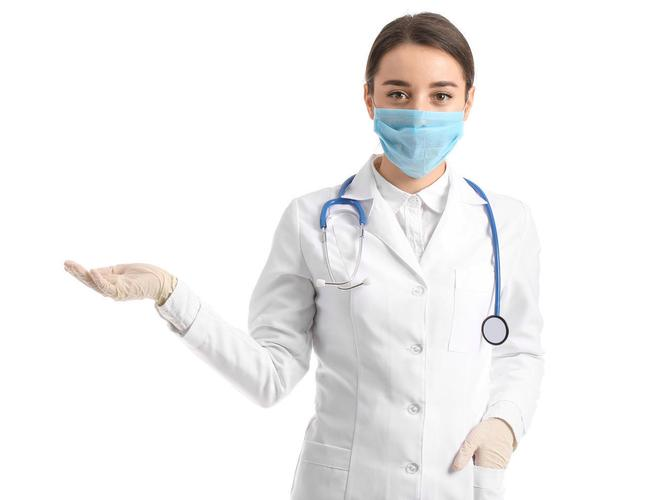mask: (365, 38, 477, 175)
